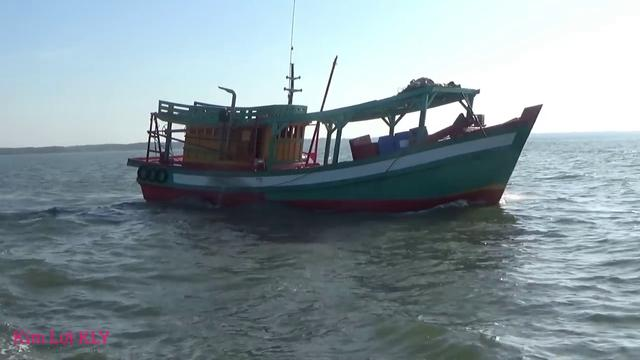Ship: (124, 80, 547, 220)
